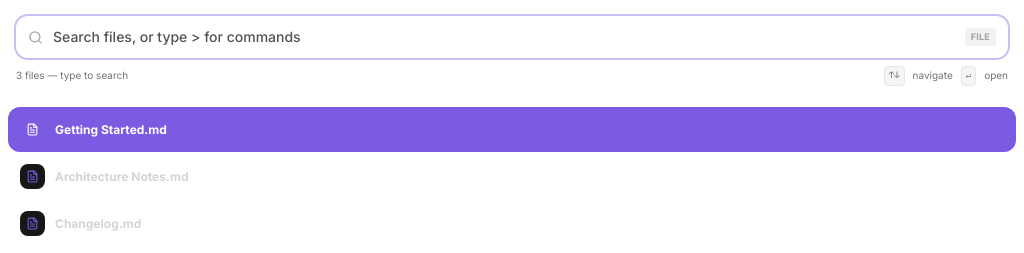
it: CommandPalette — file mode search › filters files by name
The image size is (1024, 253).
Type "arch" into the dropdown at (512, 37), box [16,16,1008,58]
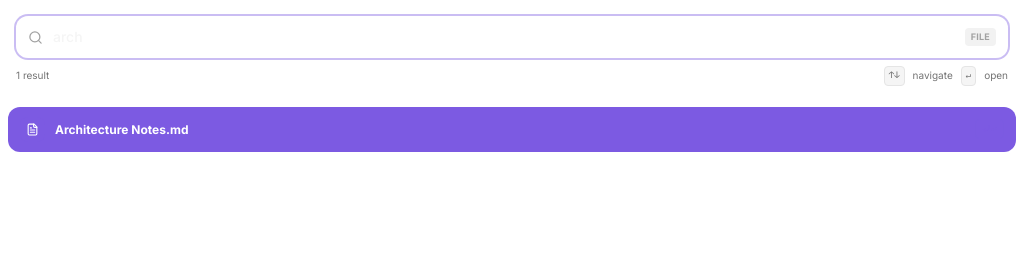
Expected: the text "Architecture Notes.md" is shown, [55,122,188,136]
Expected: the option "Getting Started.md" is gone
